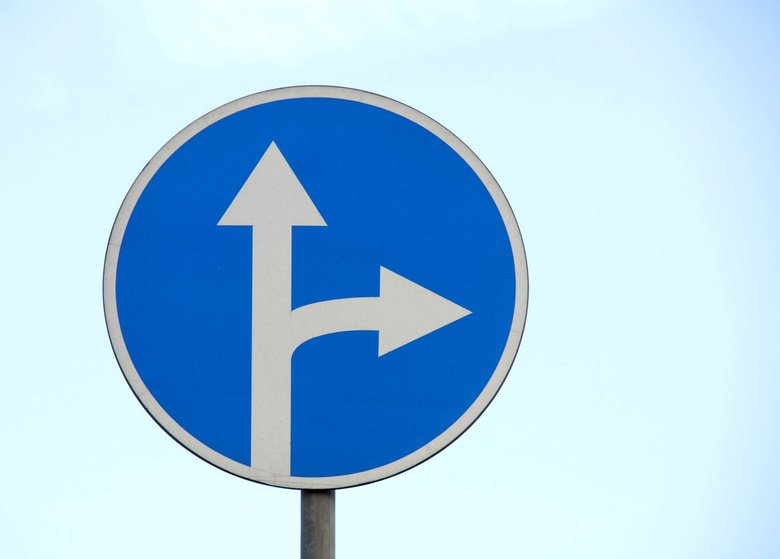ileri_veya_saga: (97, 85, 531, 479)
